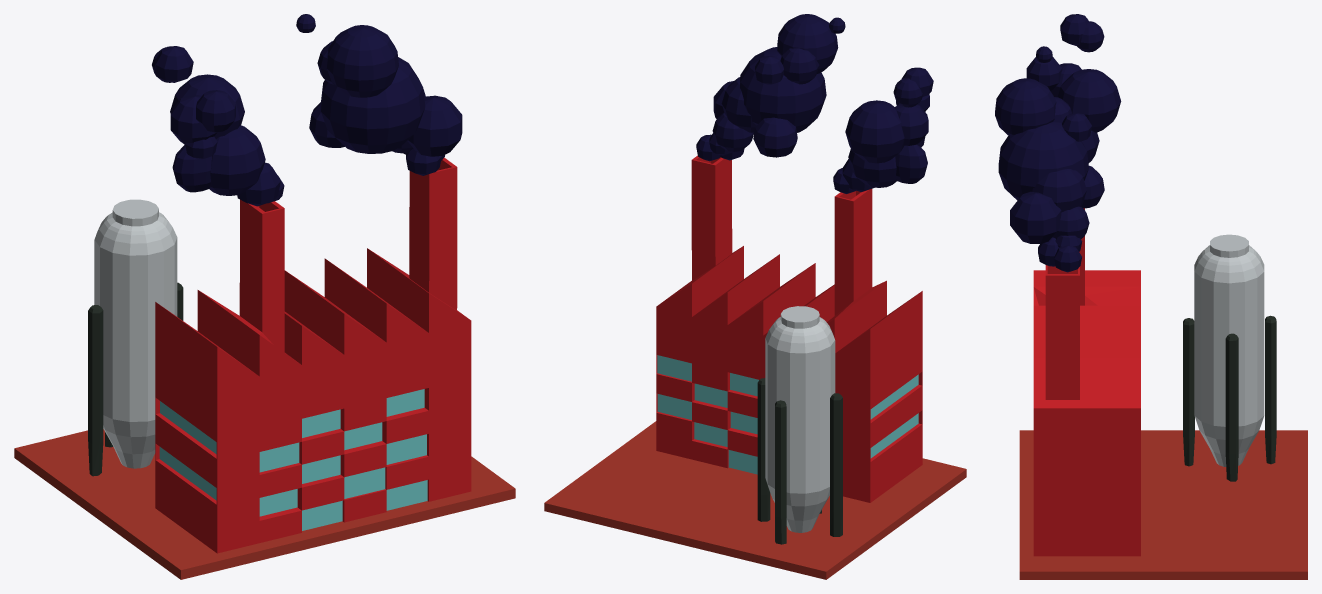
The model's file is UsineATH.fbx.
The picture shows the model from 3 angles, left to right: view 1: azimuth 30°, elevation 25°; view 2: azimuth 150°, elevation 25°; view 3: azimuth 270°, elevation 25°; orthographic projection. The views are drawn at different scales.
Parts seen in each view (by area): view 1: usine; view 2: usine; view 3: usine.
Boxes of the visible parts, left/top/right/bottom form: usine: left=14, top=14, right=515, bottom=579; usine: left=544, top=14, right=966, bottom=579; usine: left=995, top=14, right=1307, bottom=579.
Bounding box in the file's own units: 180 × 268 × 168.
